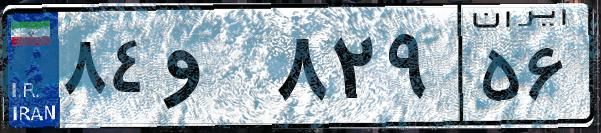2: (330, 28, 385, 110)
4: (110, 28, 158, 98)
5: (475, 38, 525, 113)
6: (525, 38, 570, 115)
8: (270, 28, 330, 110), (57, 26, 110, 100)
9: (385, 28, 445, 110)
و: (158, 20, 270, 120)
